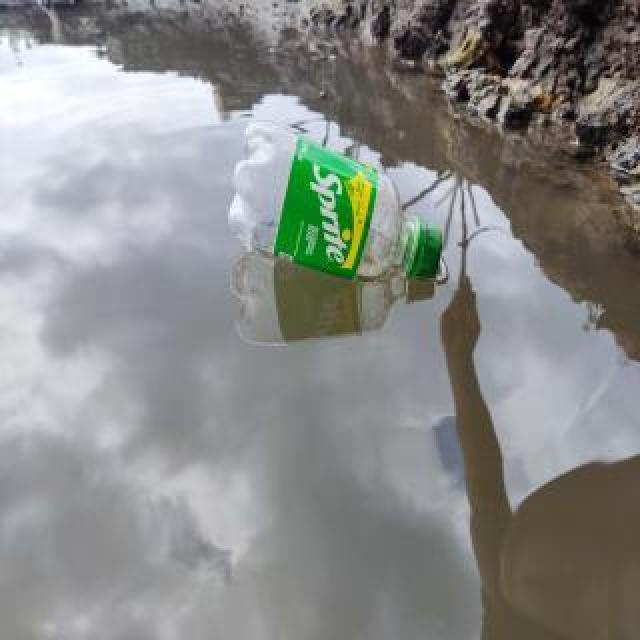bottle: (225, 114, 445, 288)
